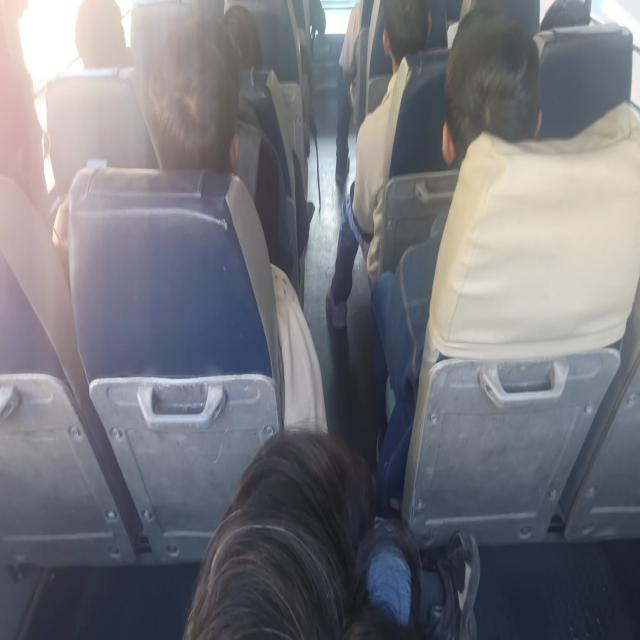person: (189, 428, 477, 640), (443, 18, 541, 160), (152, 46, 238, 172), (0, 58, 58, 203), (377, 0, 437, 65), (82, 0, 128, 61), (219, 2, 264, 56), (536, 0, 604, 31)
